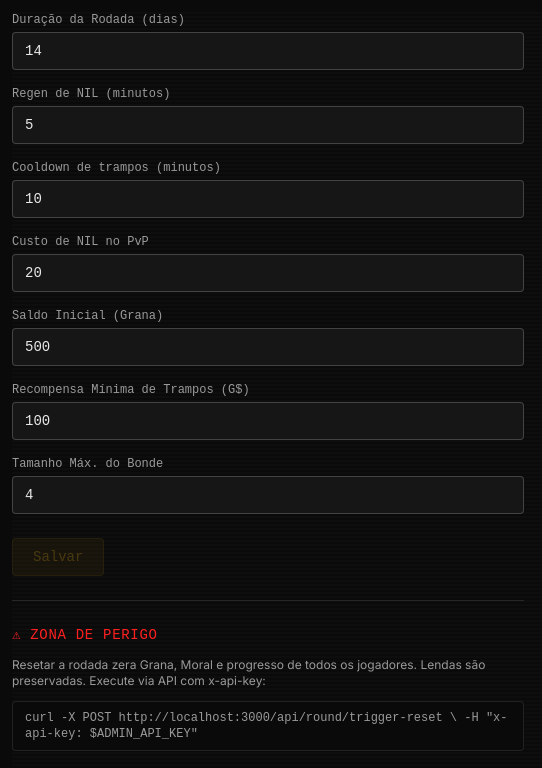
Test: ParamsTab › should save edited values via the store on submit
This screenshot has width=542, height=768.
Expected: the button "Salvar" is disabled, x1=12 y1=538 x2=104 y2=576
Type "25" into the number field showing "20" below "Custo de NIL no PvP" at (268, 273), box x1=12 y1=254 x2=524 y2=292
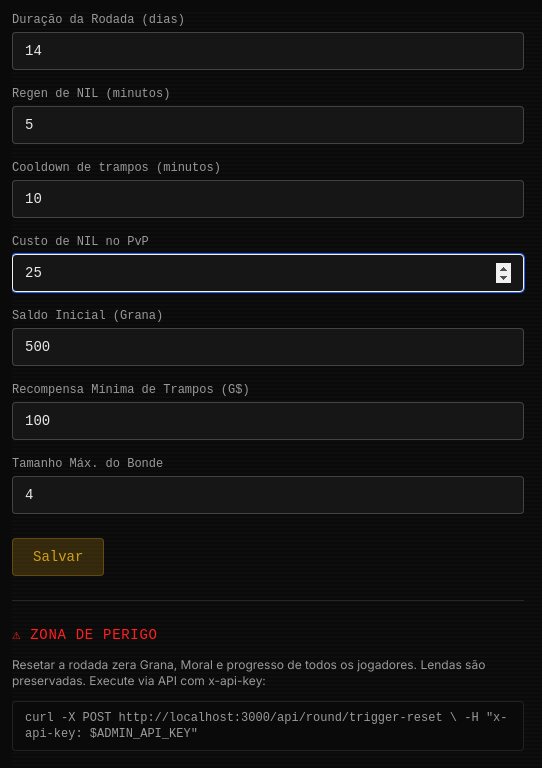
Expected: the button "Salvar" is enabled
Click the button "Salvar" at (58, 557), box x1=12 y1=538 x2=104 y2=576
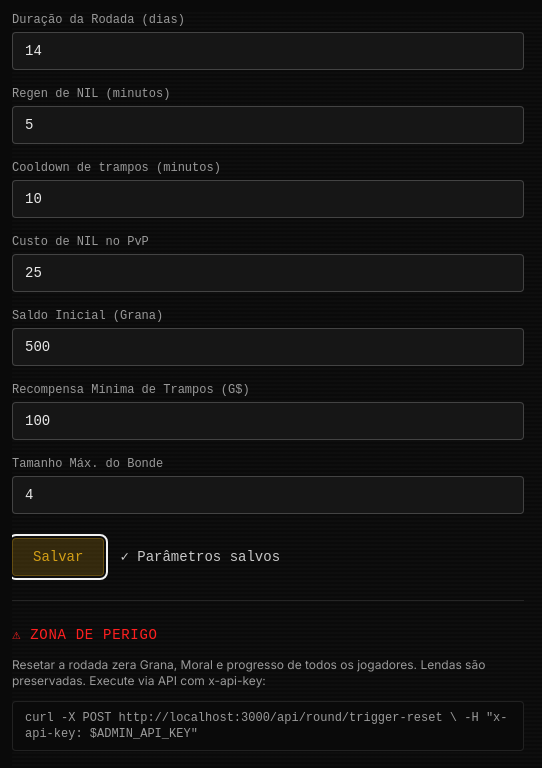
Expected: the text "✓ Parâmetros salvos" is shown, x1=120 y1=547 x2=280 y2=567
